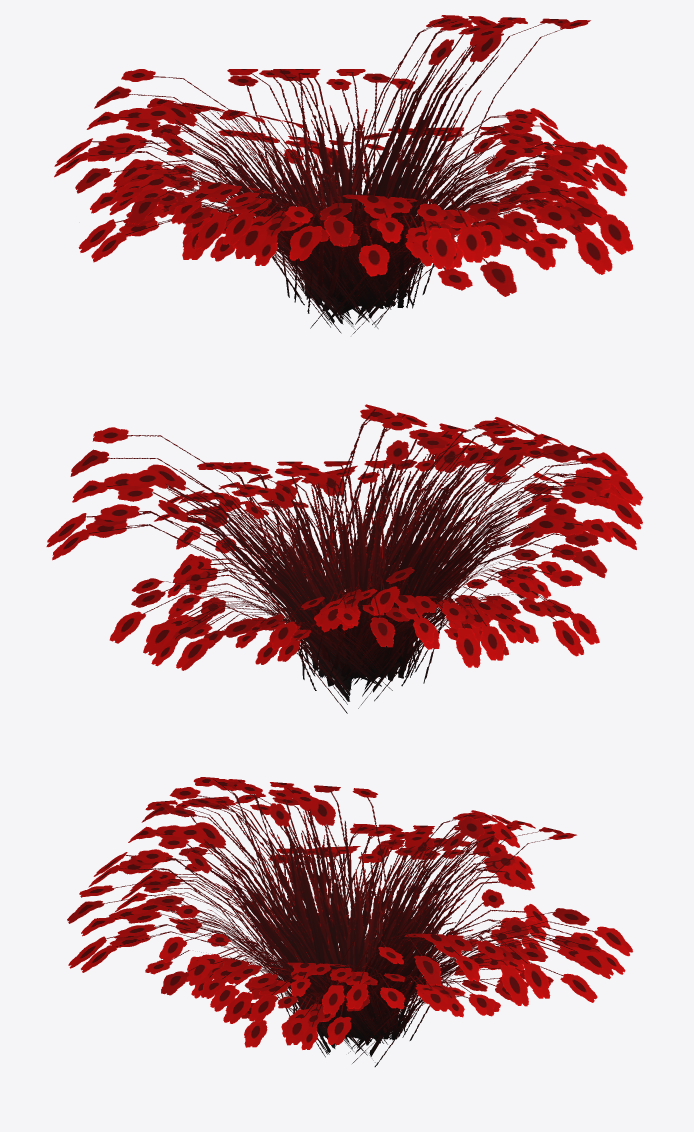
The model's file is bush_grassland_wildflower_a_lod2.glb.
The picture shows the model from 3 angles, top to bottom: view 1: azimuth 30°, elevation 25°; view 2: azimuth 150°, elevation 25°; view 3: azimuth 270°, elevation 25°; orthographic projection. The views are drawn at different scales.
Parts seen in each view (by area): view 1: bush_grassland_wildflower_a; view 2: bush_grassland_wildflower_a; view 3: bush_grassland_wildflower_a.
Boxes of the visible parts, x1,y1,x2,y2 form: bush_grassland_wildflower_a: [54, 15, 632, 334]; bush_grassland_wildflower_a: [46, 404, 642, 713]; bush_grassland_wildflower_a: [67, 777, 632, 1066].
Size of the model in its own units: 1.7 by 0.7016 by 1.76.
Materials: 1 (1 with a texture image).
